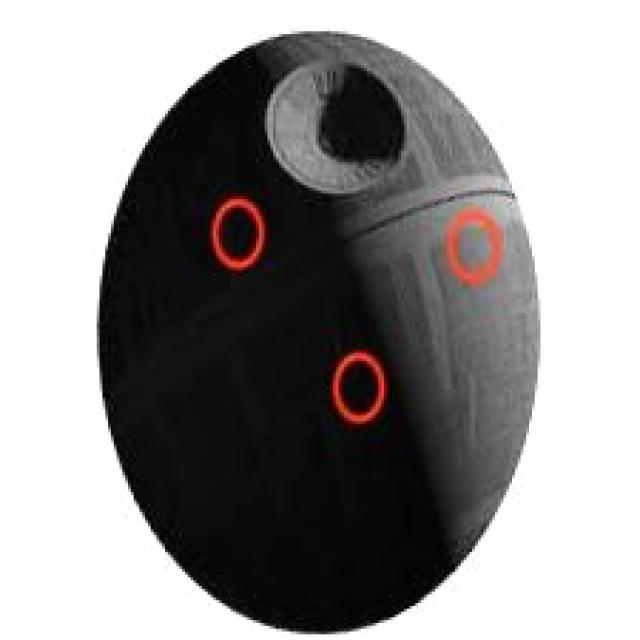deathstar: (93, 25, 544, 636)
